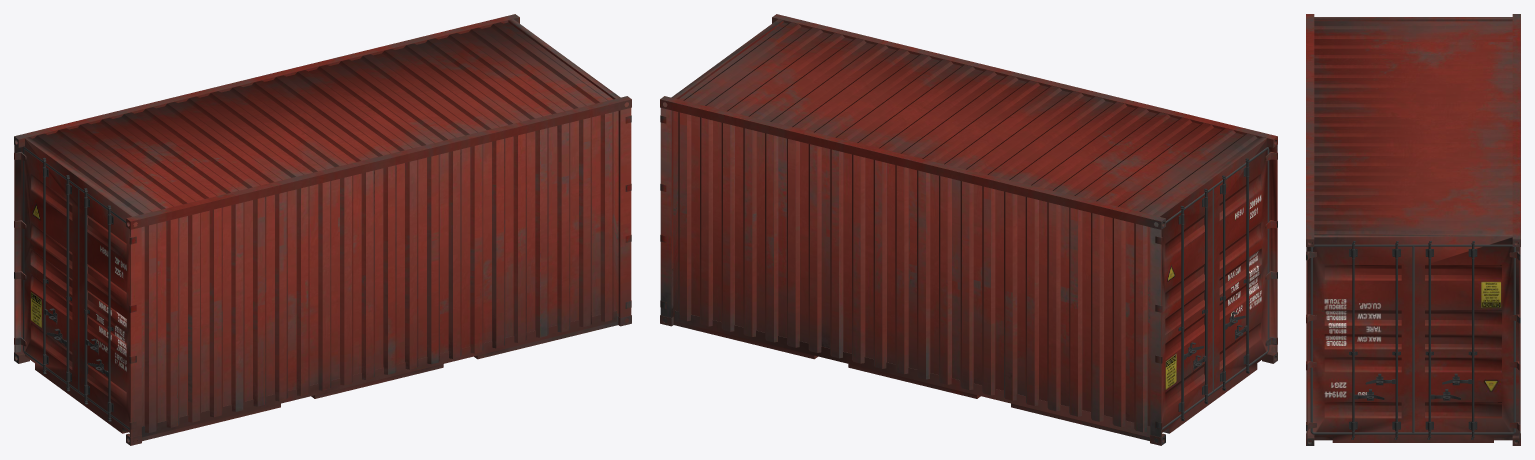
The model's file is container_rojo.glb.
3 renders of one model, left to right at view 1: azimuth 30°, elevation 25°; view 2: azimuth 150°, elevation 25°; view 3: azimuth 270°, elevation 25°, orthographic. The views are drawn at different scales.
Parts seen in each view (by area): view 1: petikemas; view 2: petikemas; view 3: petikemas.
Part boxes in pixels (left/top/right/bottom): petikemas: left=14, top=14, right=631, bottom=445; petikemas: left=660, top=14, right=1277, bottom=445; petikemas: left=1306, top=14, right=1520, bottom=445.
Size of the model in its own units: 6.07 by 2.59 by 2.44.
3 materials, 3 textured.
